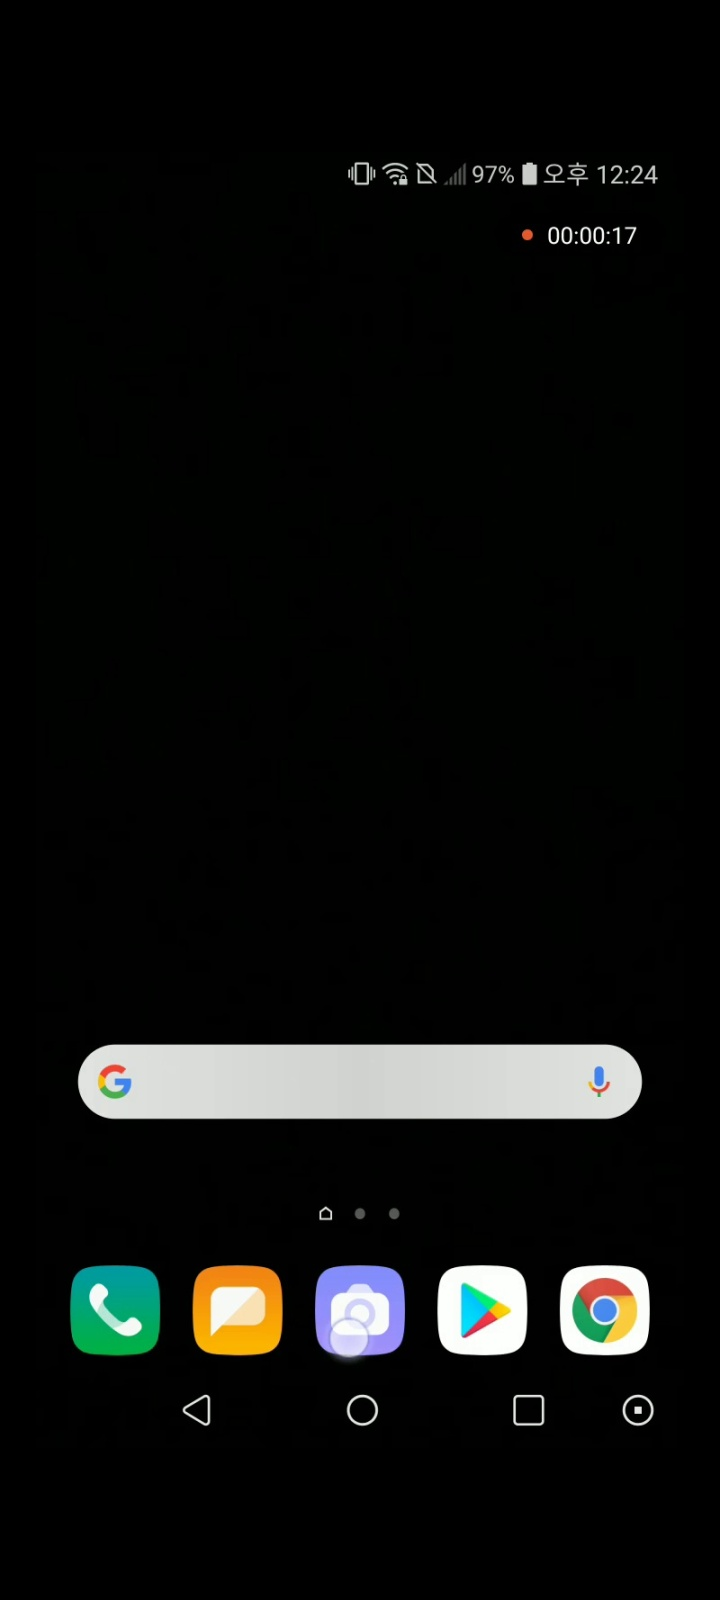Cursor: (327, 1316, 372, 1361)
